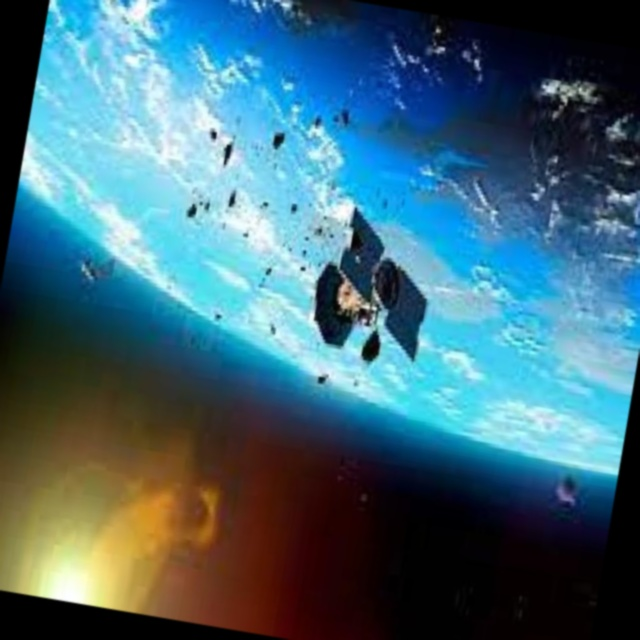large_debris: (49, 240, 122, 313), (215, 293, 288, 354), (270, 97, 328, 161), (183, 177, 238, 236), (351, 321, 393, 368), (550, 461, 587, 512), (202, 134, 248, 169), (333, 100, 360, 130)
satellite: (300, 207, 449, 380)
